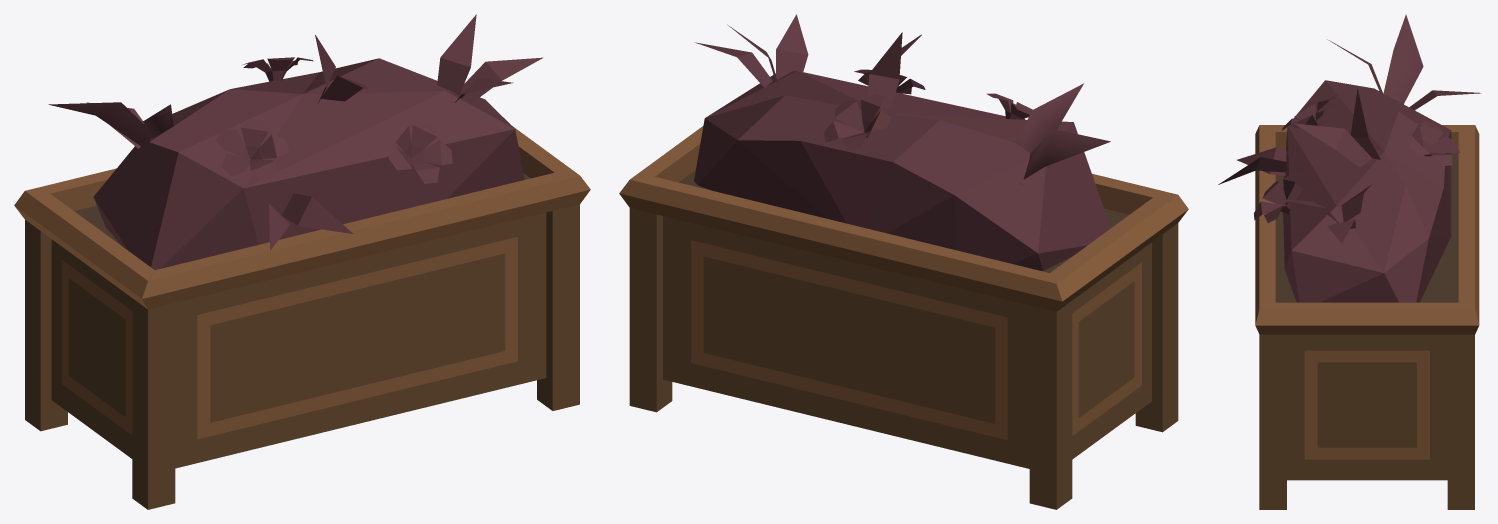
Rendered from SM_Flowerpot_Wooden_Big_Empire.fbx.
3 views of the same model, side by side, from view 1: azimuth 30°, elevation 25°; view 2: azimuth 150°, elevation 25°; view 3: azimuth 270°, elevation 25° (orthographic). The views are drawn at different scales.
Parts seen in each view (by area): view 1: SM_Flowerpot_Wooden_Big_Empire; view 2: SM_Flowerpot_Wooden_Big_Empire; view 3: SM_Flowerpot_Wooden_Big_Empire.
Part boxes in pixels (x1=…): SM_Flowerpot_Wooden_Big_Empire: x1=14, y1=14, x2=590, y2=509; SM_Flowerpot_Wooden_Big_Empire: x1=619, y1=14, x2=1188, y2=509; SM_Flowerpot_Wooden_Big_Empire: x1=1218, y1=14, x2=1481, y2=509.
Size of the model in its own units: 1.51 by 1.2 by 0.866.
